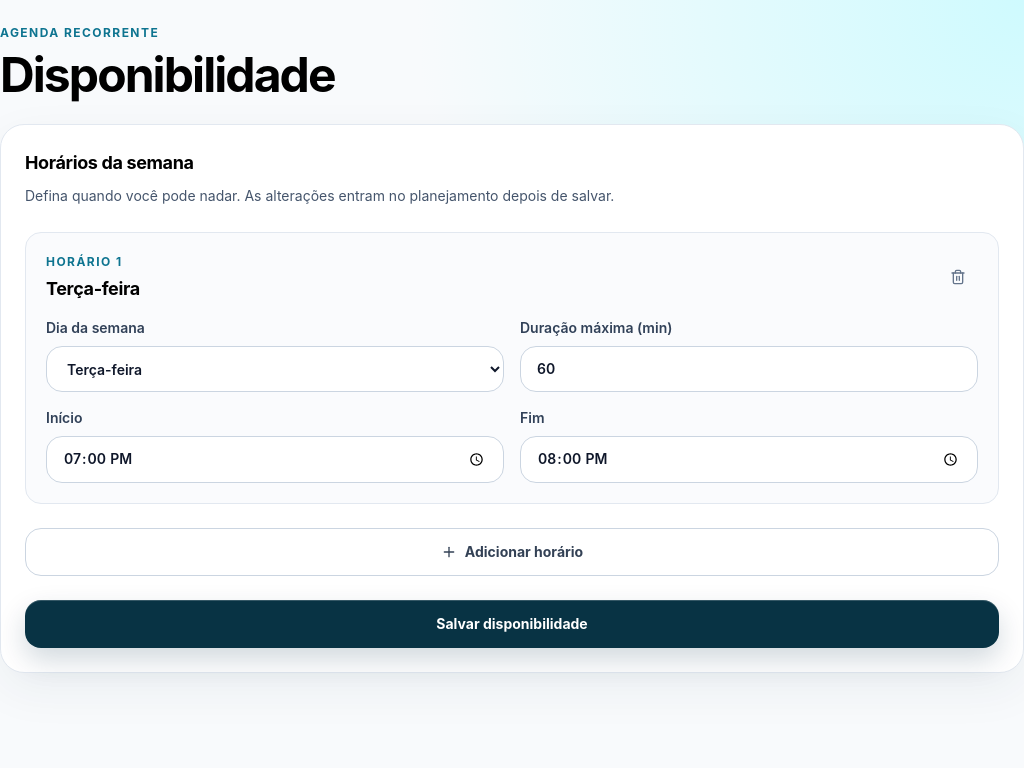
Test: AvailabilityPage › adds and edits availability before replacing the weekly schedule
Expected: the heading "Terça-feira" is shown, [46,275,140,302]
Replace the text in the time field labelled "Início" with "18:30" at (275, 459), box [46,436,504,483]
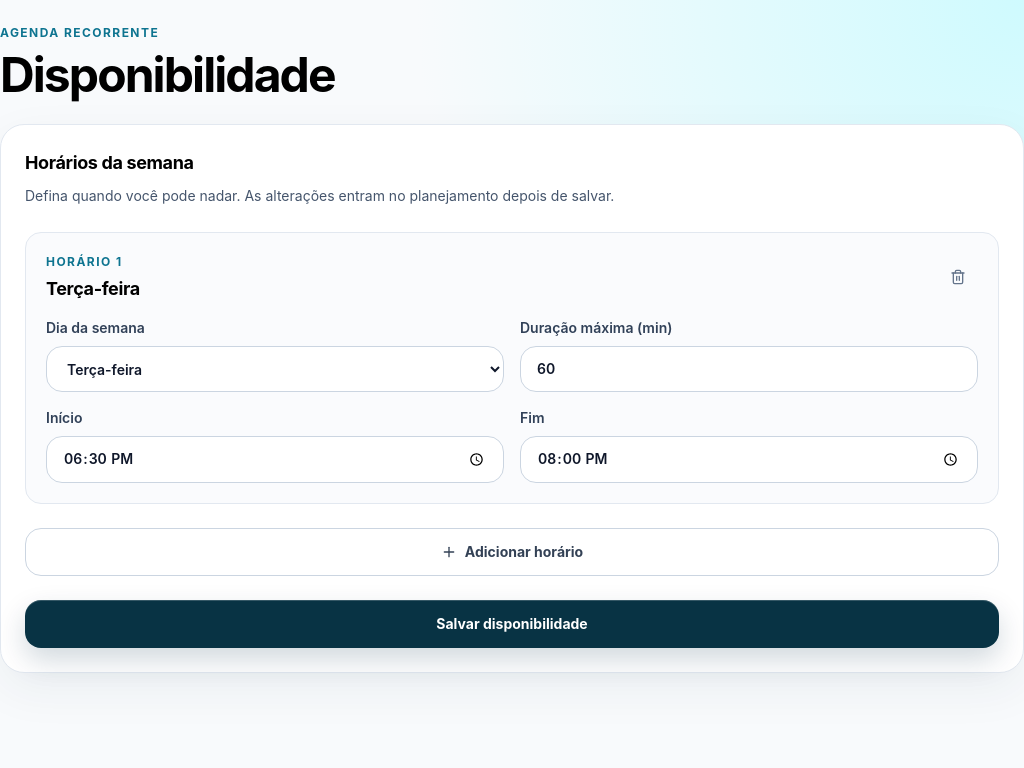
Click the button "Adicionar horário" at (512, 552), box [25,528,999,576]
(page scrolled)
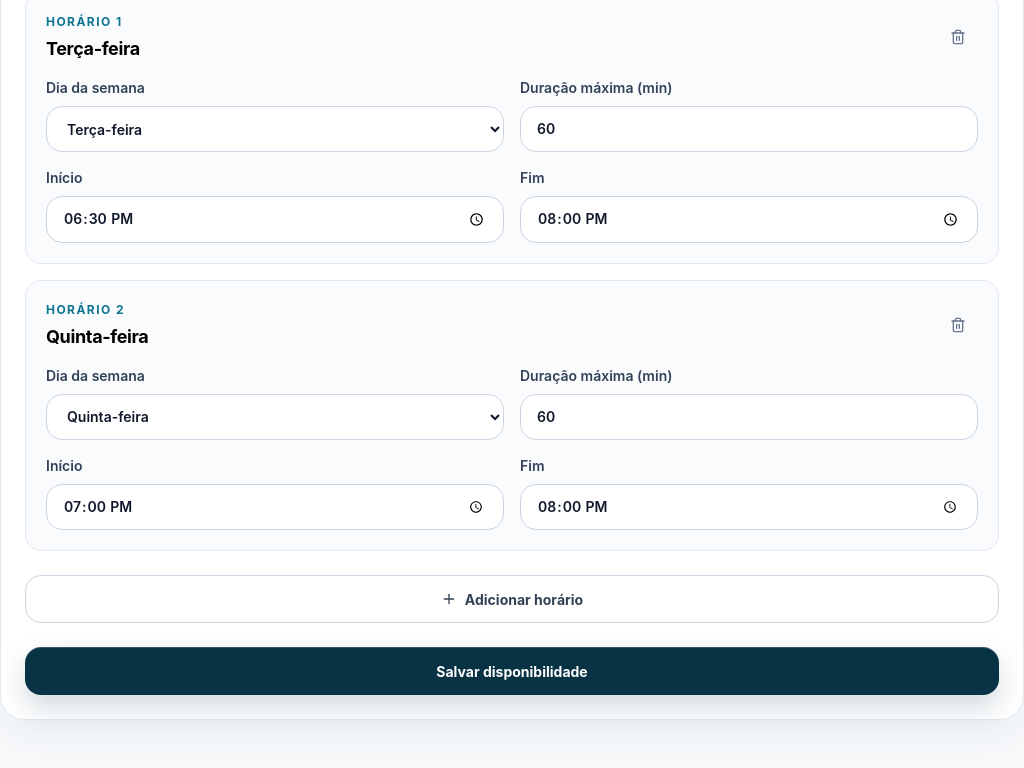
Now the number of dropdowns labelled "Dia da semana" is 2, box [46,106,504,152]; [46,394,504,440]
Now the dropdown labelled "Dia da semana" below "Quinta-feira" shows "Quinta-feira", box [46,394,504,440]
Click the button "Salvar disponibilidade" at (512, 671), box [25,647,999,695]
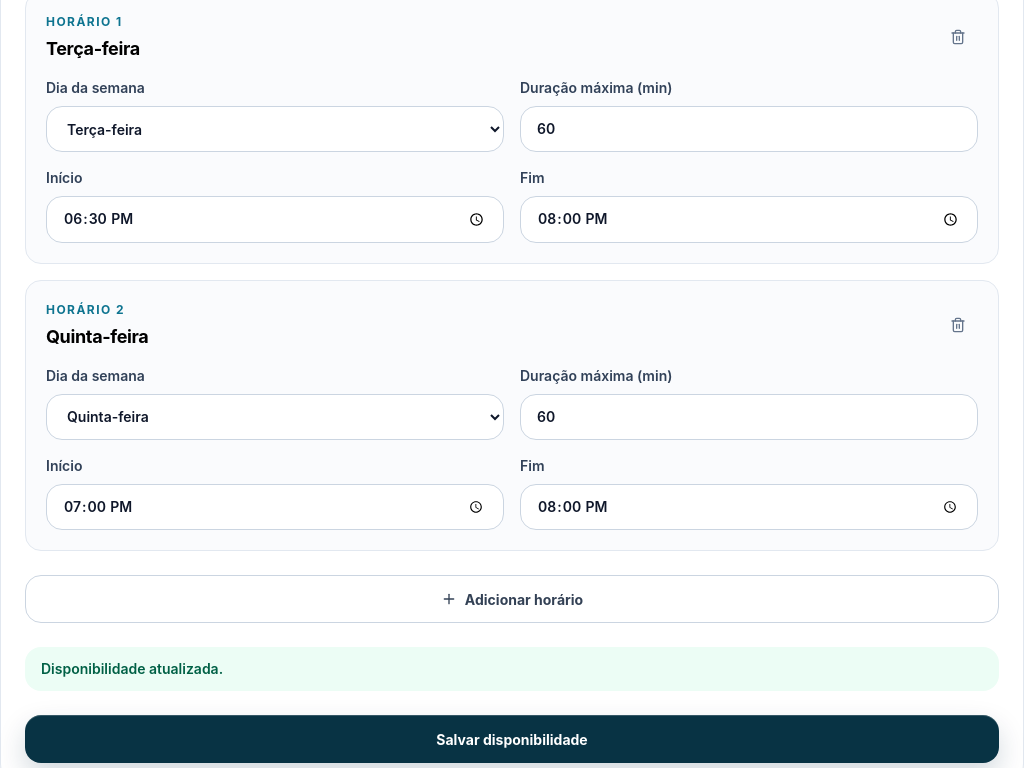
Now the text "Disponibilidade atualizada." is shown, box [25,647,999,691]
